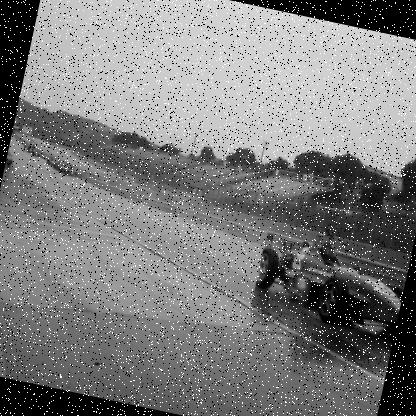Car: (249, 223, 410, 338), (5, 149, 14, 165)
